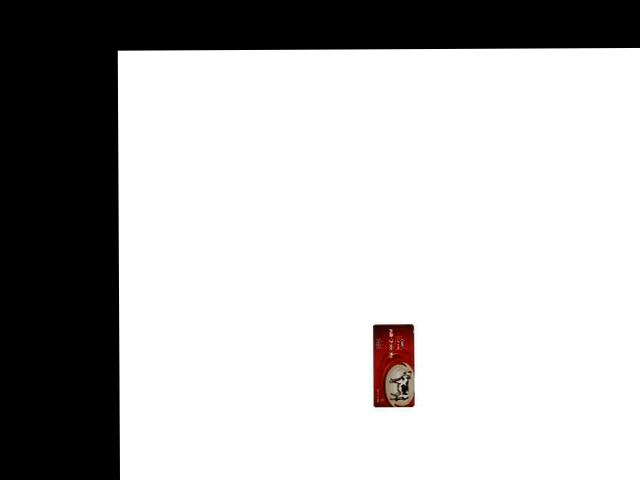chocolate: (370, 322, 414, 407)
